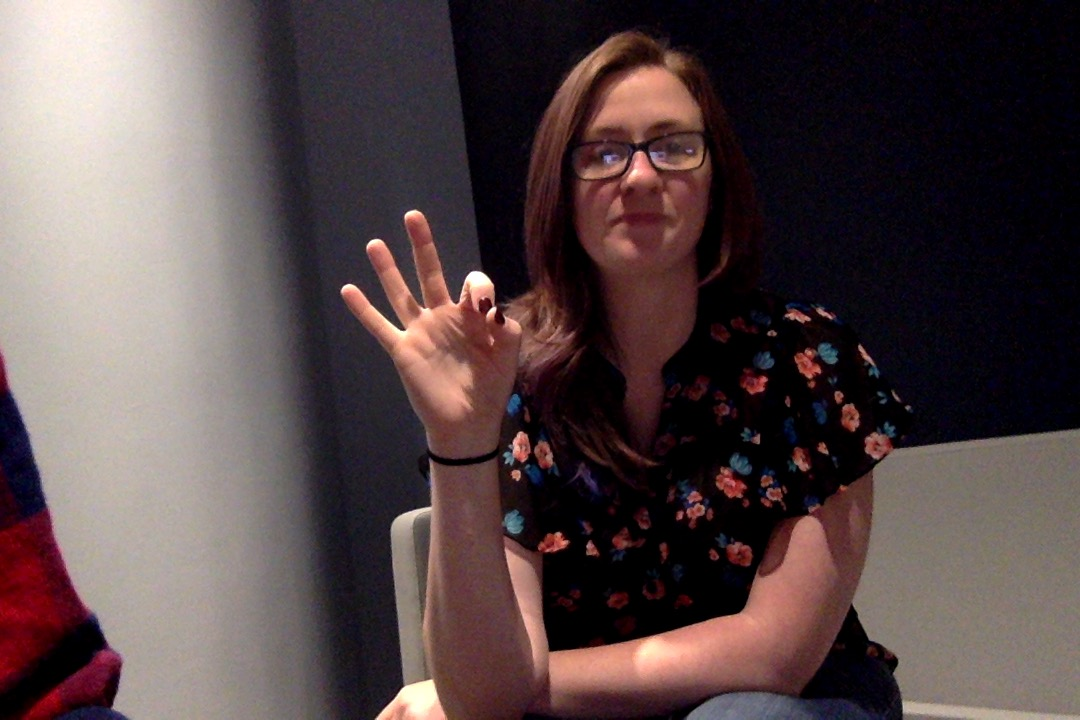f: (329, 194, 529, 450)
